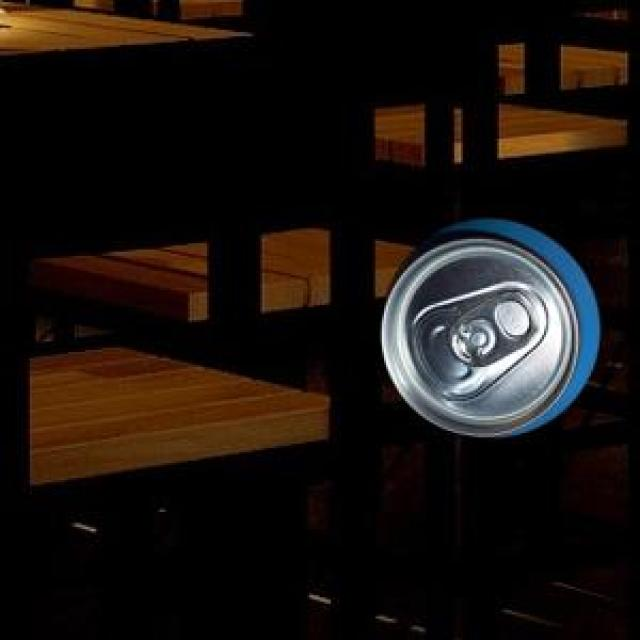logam: (379, 214, 596, 434)
